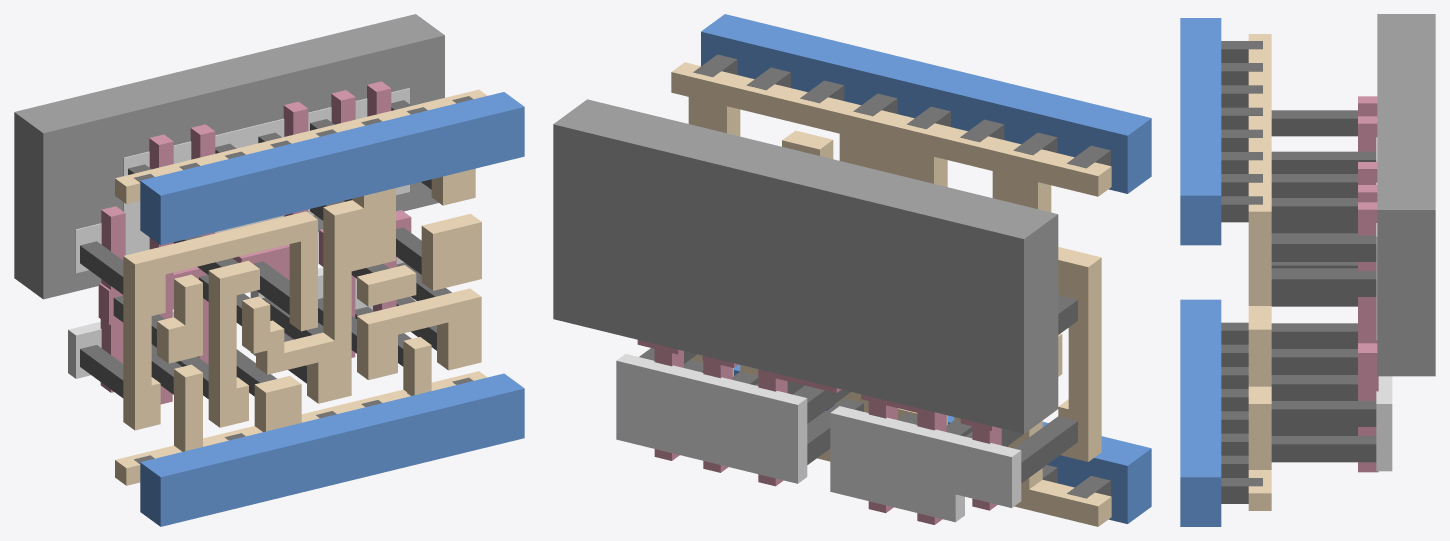
Rendered from sky130_fd_sc_hd__o21ba_2.gds.gltf.
3 views of the same model, side by side, from view 1: azimuth 30°, elevation 25°; view 2: azimuth 150°, elevation 25°; view 3: azimuth 270°, elevation 25° (orthographic). The views are drawn at different scales.
Parts seen in each view (by area): view 1: sky130_fd_sc_hd__o21ba_2_li1, sky130_fd_sc_hd__o21ba_2_met1, sky130_fd_sc_hd__o21ba_2_nwell, sky130_fd_sc_hd__o21ba_2_licon, sky130_fd_sc_hd__o21ba_2_poly, sky130_fd_sc_hd__o21ba_2_diff, sky130_fd_sc_hd__o21ba_2_mcon; view 2: sky130_fd_sc_hd__o21ba_2_nwell, sky130_fd_sc_hd__o21ba_2_diff, sky130_fd_sc_hd__o21ba_2_li1, sky130_fd_sc_hd__o21ba_2_met1, sky130_fd_sc_hd__o21ba_2_licon, sky130_fd_sc_hd__o21ba_2_mcon, sky130_fd_sc_hd__o21ba_2_poly; view 3: sky130_fd_sc_hd__o21ba_2_licon, sky130_fd_sc_hd__o21ba_2_nwell, sky130_fd_sc_hd__o21ba_2_met1, sky130_fd_sc_hd__o21ba_2_mcon, sky130_fd_sc_hd__o21ba_2_li1, sky130_fd_sc_hd__o21ba_2_poly, sky130_fd_sc_hd__o21ba_2_diff.
Part boxes in pixels (<box>): sky130_fd_sc_hd__o21ba_2_li1: <box>115,89,487,485</box>; sky130_fd_sc_hd__o21ba_2_met1: <box>140,92,524,526</box>; sky130_fd_sc_hd__o21ba_2_nwell: <box>14,14,444,299</box>; sky130_fd_sc_hd__o21ba_2_licon: <box>80,100,451,398</box>; sky130_fd_sc_hd__o21ba_2_poly: <box>98,81,411,404</box>; sky130_fd_sc_hd__o21ba_2_diff: <box>68,88,413,378</box>; sky130_fd_sc_hd__o21ba_2_mcon: <box>134,96,473,463</box>; sky130_fd_sc_hd__o21ba_2_nwell: <box>553,99,1058,433</box>; sky130_fd_sc_hd__o21ba_2_diff: <box>616,354,1021,522</box>; sky130_fd_sc_hd__o21ba_2_li1: <box>671,62,1111,526</box>; sky130_fd_sc_hd__o21ba_2_met1: <box>701,14,1151,523</box>; sky130_fd_sc_hd__o21ba_2_licon: <box>639,295,1077,483</box>; sky130_fd_sc_hd__o21ba_2_mcon: <box>693,54,1110,498</box>; sky130_fd_sc_hd__o21ba_2_poly: <box>637,340,1001,524</box>; sky130_fd_sc_hd__o21ba_2_licon: <box>1271,110,1376,462</box>; sky130_fd_sc_hd__o21ba_2_nwell: <box>1377,14,1435,376</box>; sky130_fd_sc_hd__o21ba_2_met1: <box>1180,18,1221,526</box>; sky130_fd_sc_hd__o21ba_2_mcon: <box>1221,41,1262,503</box>; sky130_fd_sc_hd__o21ba_2_li1: <box>1248,34,1271,510</box>; sky130_fd_sc_hd__o21ba_2_poly: <box>1358,96,1378,472</box>; sky130_fd_sc_hd__o21ba_2_diff: <box>1376,137,1392,471</box>.
Bounding box in the file's own units: 4.06 × 3.2 × 2.24.
